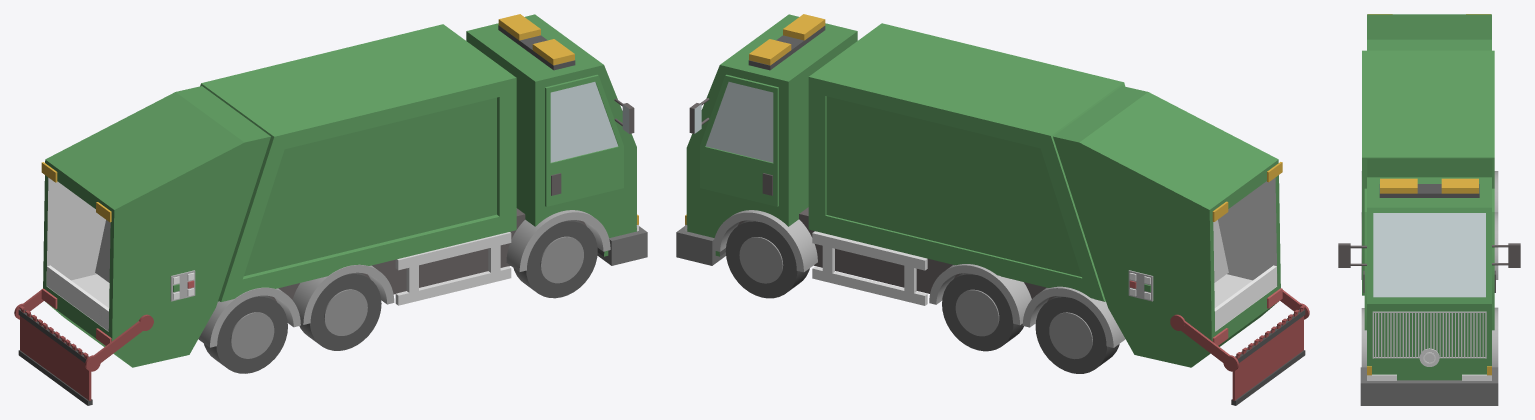
File: Garbage-Truck-LowPoly.gltf
3 views of the same model, side by side, from view 1: azimuth 30°, elevation 25°; view 2: azimuth 150°, elevation 25°; view 3: azimuth 270°, elevation 25° (orthographic). The views are drawn at different scales.
Parts seen in each view (by area): view 1: Couvercle 1 (×5), Body-OutterFrame, Back-End, Cylinder (×3), Extrude.2, Mud-Guard (×3), Cap 1, Cube.2, Cylinder.1 (×3), Side-Bar-Right, UnderPlate, Cube.4 (+6 smaller); view 2: Couvercle 2 (×5), Body-OutterFrame, Back-End, Cylinder (×3), Extrude.2, Mud-Guard (×3), Cap 2, Cube.2, Cylinder.1 (×3), Side-Bar-Left, UnderPlate, Cube.4 (+6 smaller); view 3: Body-OutterFrame, Extrude.2, Window, Back-End, Front Bumber, Body, beacons.1-Mat.4, Mud-Guard (×4), Door, beacons.1-Mat, Wing-Mirror-R-Mat.3, Wing-Mirror-L-Mat.3 (+4 smaller).
Boxes of the visible parts, bbox=[...] form: Couvercle 1 (×5): bbox=[112, 75, 623, 367]; Body-OutterFrame: bbox=[200, 24, 516, 301]; Back-End: bbox=[43, 86, 270, 366]; Cylinder (×3): bbox=[204, 220, 597, 373]; Extrude.2: bbox=[466, 14, 603, 226]; Mud-Guard (×3): bbox=[198, 210, 610, 347]; Cap 1: bbox=[535, 65, 636, 256]; Cube.2: bbox=[46, 177, 109, 331]; Cylinder.1 (×3): bbox=[230, 236, 583, 358]; Side-Bar-Right: bbox=[395, 232, 511, 305]; UnderPlate: bbox=[269, 208, 586, 301]; Cube.4: bbox=[20, 316, 91, 400]; Couvercle 2 (×5): bbox=[700, 75, 1211, 367]; Body-OutterFrame: bbox=[809, 23, 1125, 300]; Back-End: bbox=[1053, 86, 1280, 366]; Cylinder (×3): bbox=[725, 220, 1119, 373]; Extrude.2: bbox=[720, 14, 857, 226]; Mud-Guard (×3): bbox=[713, 210, 1125, 347]; Cap 2: bbox=[686, 65, 788, 256]; Cube.2: bbox=[1214, 177, 1277, 331]; Cylinder.1 (×3): bbox=[739, 237, 1092, 359]; Side-Bar-Left: bbox=[812, 231, 927, 305]; UnderPlate: bbox=[738, 207, 1054, 301]; Cube.4: bbox=[1232, 316, 1303, 400]; Body-OutterFrame: bbox=[1362, 50, 1494, 295]; Extrude.2: bbox=[1367, 177, 1491, 380]; Window: bbox=[1373, 213, 1485, 297]; Back-End: bbox=[1367, 14, 1491, 50]; Front Bumber: bbox=[1360, 367, 1498, 405]; Body: bbox=[1367, 159, 1492, 188]; beacons.1-Mat.4: bbox=[1380, 178, 1478, 193]; Mud-Guard (×4): bbox=[1361, 171, 1498, 367]; Door: bbox=[1364, 188, 1494, 330]; beacons.1-Mat: bbox=[1379, 184, 1479, 197]; Wing-Mirror-R-Mat.3: bbox=[1338, 243, 1366, 267]; Wing-Mirror-L-Mat.3: bbox=[1492, 243, 1520, 267].
Size of the model in its own units: 4.67 by 1.86 by 1.46.
